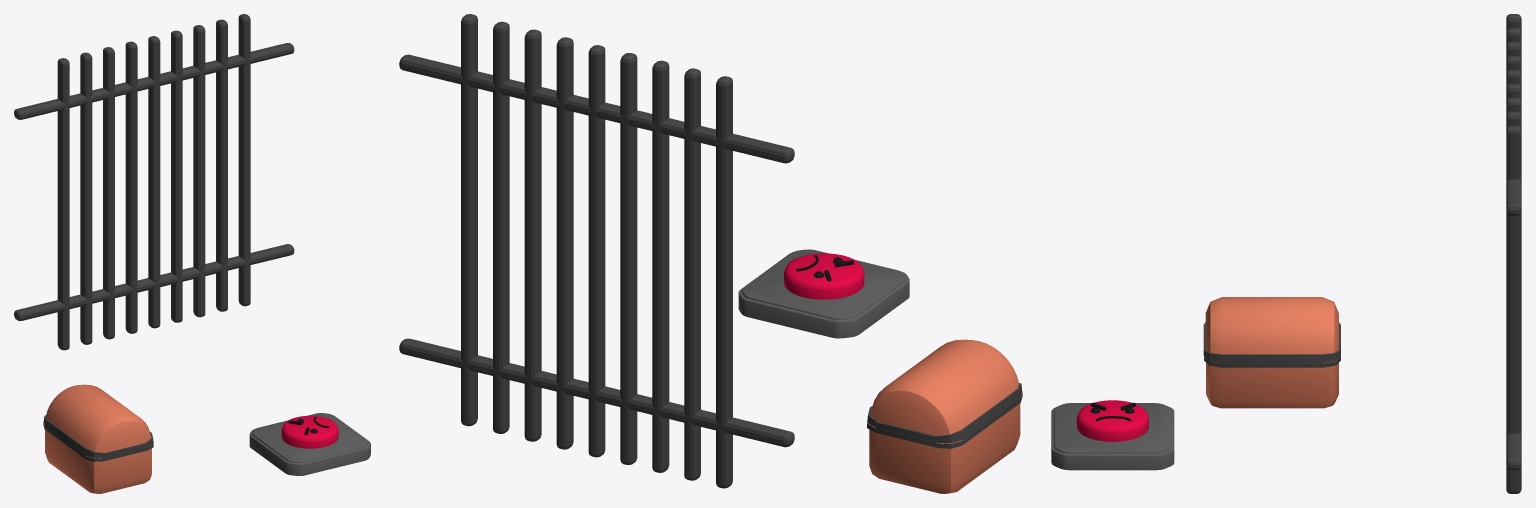
File: props_dorc1.fbx
3 renders of one model, left to right at view 1: azimuth 30°, elevation 25°; view 2: azimuth 150°, elevation 25°; view 3: azimuth 270°, elevation 25°, orthographic. The views are drawn at different scales.
Visible parts, largest first — view 1: bars, chest1, button, chest2; view 2: bars, chest1, button, chest2; view 3: chest1, button, bars, chest2.
Part boxes in pixels (x1,y1,x2,y2): bars: [14, 14, 294, 350]; chest1: [43, 384, 153, 458]; button: [249, 413, 370, 475]; chest2: [43, 422, 153, 493]; bars: [399, 14, 794, 488]; chest1: [867, 339, 1022, 443]; button: [738, 249, 909, 338]; chest2: [867, 392, 1022, 493]; chest1: [1203, 297, 1340, 363]; button: [1051, 400, 1174, 470]; bars: [1506, 14, 1521, 493]; chest2: [1204, 356, 1340, 408].
Bounding box in the file's own units: 424 × 414 × 423.
